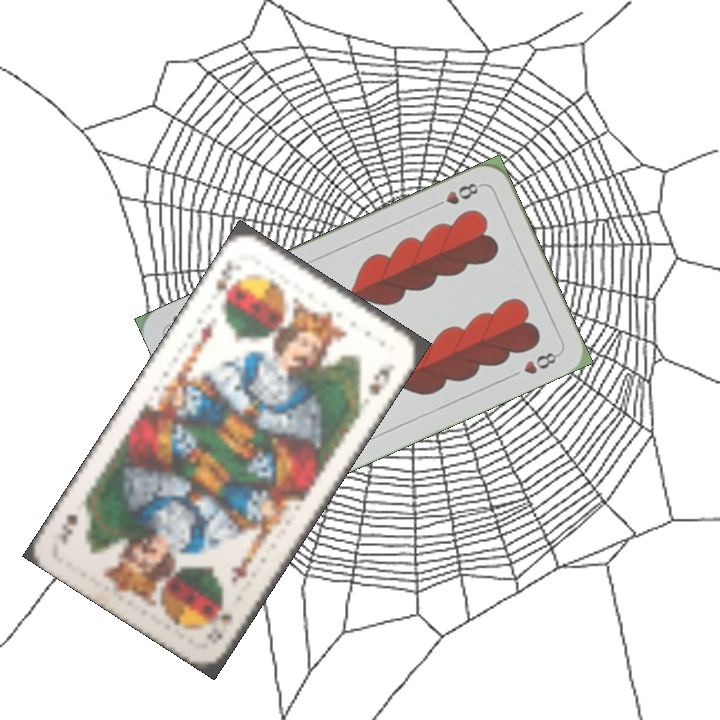H8: (429, 178, 485, 211)
SK: (211, 255, 242, 308), (202, 608, 236, 648)
